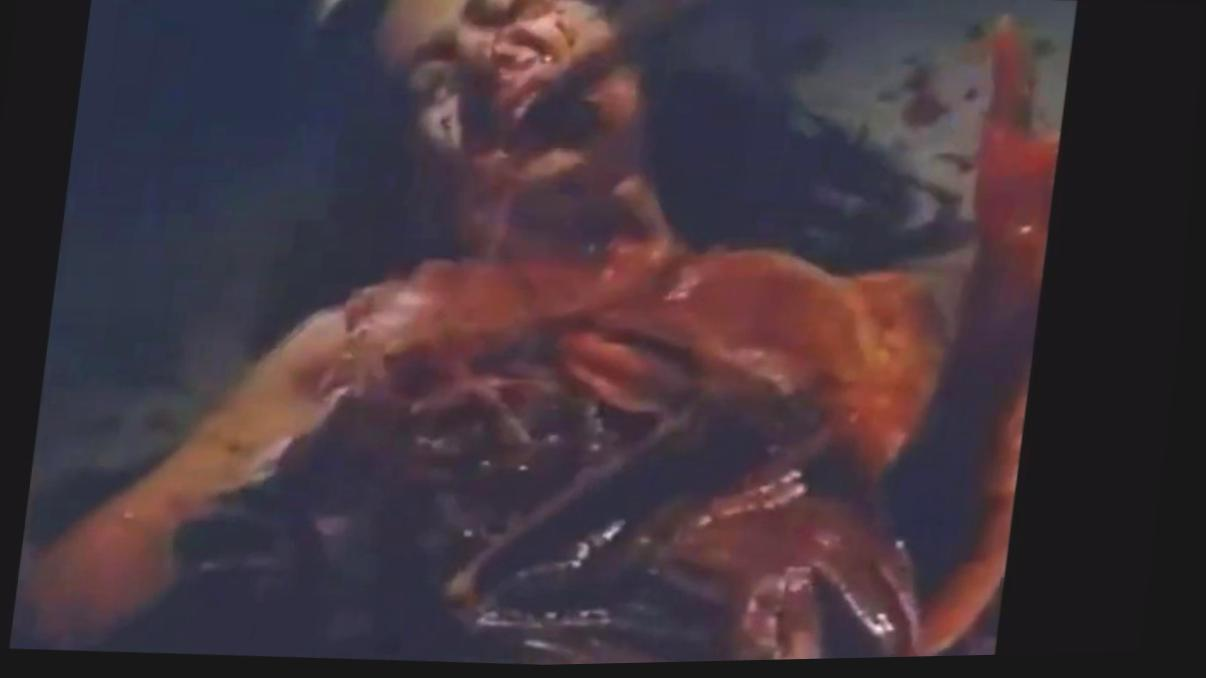Fire: (26, 0, 1063, 668), (881, 67, 950, 133), (934, 151, 975, 177), (964, 89, 980, 109)
